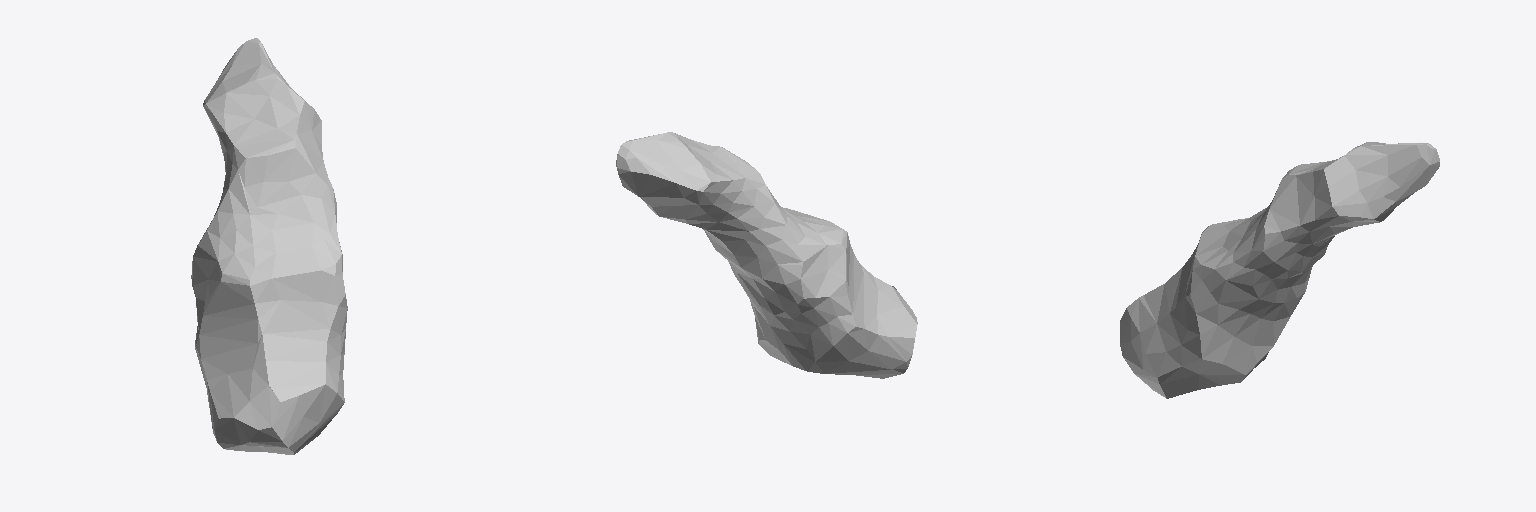
Rendered from SpireLoPoly.obj.
The picture shows the model from 3 angles: view 1: azimuth 30°, elevation 25°; view 2: azimuth 150°, elevation 25°; view 3: azimuth 270°, elevation 25°; orthographic projection.
Parts seen in each view (by area): view 1: RockSpireLo_Cube.006; view 2: RockSpireLo_Cube.006; view 3: RockSpireLo_Cube.006.
Boxes of the visible parts, x1,y1,x2,y2 form: RockSpireLo_Cube.006: [191, 38, 347, 454]; RockSpireLo_Cube.006: [616, 132, 917, 378]; RockSpireLo_Cube.006: [1120, 142, 1439, 398].
Bounding box in the file's own units: 1.87 × 2.83 × 2.8.